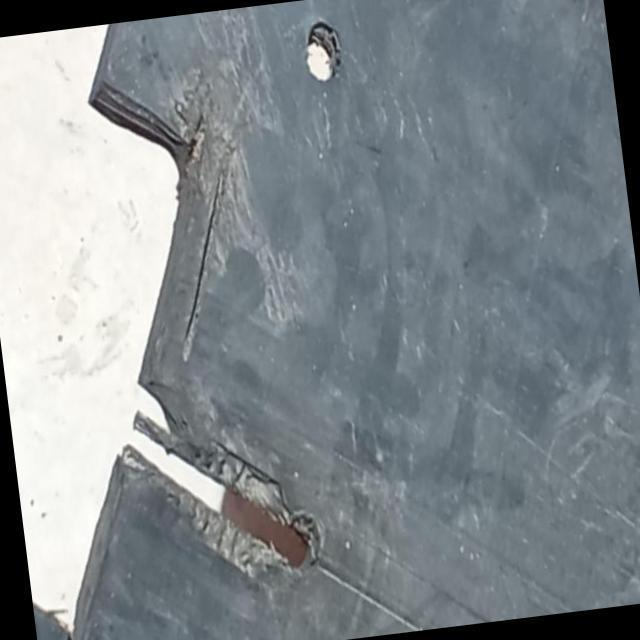Hole: (300, 18, 343, 86)
Tear: (31, 80, 325, 640), (174, 154, 240, 345)
